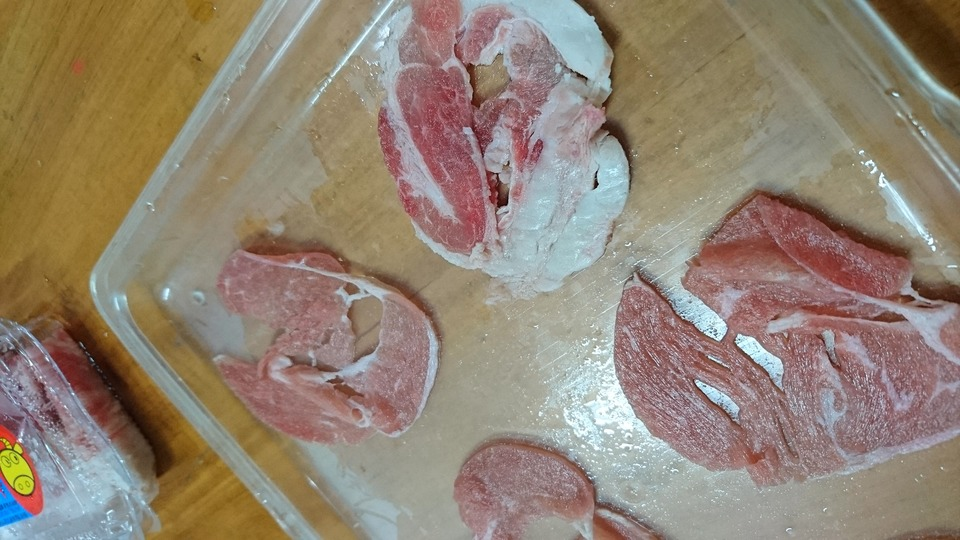restructured meat: (621, 203, 953, 492), (362, 16, 636, 292), (185, 242, 454, 448), (451, 452, 633, 536)
